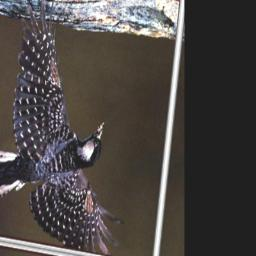Woodpecker: (0, 0, 142, 256)
